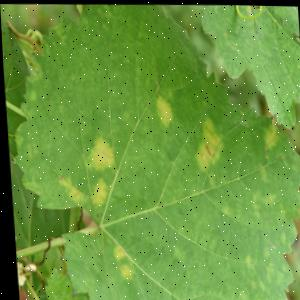Folha: (0, 0, 300, 300)
Fungo: (190, 114, 221, 170), (84, 132, 112, 171), (108, 241, 130, 279), (257, 113, 278, 152), (152, 92, 172, 126), (87, 174, 105, 206), (115, 261, 128, 279), (108, 241, 121, 258), (202, 141, 208, 153), (8, 156, 13, 163)
